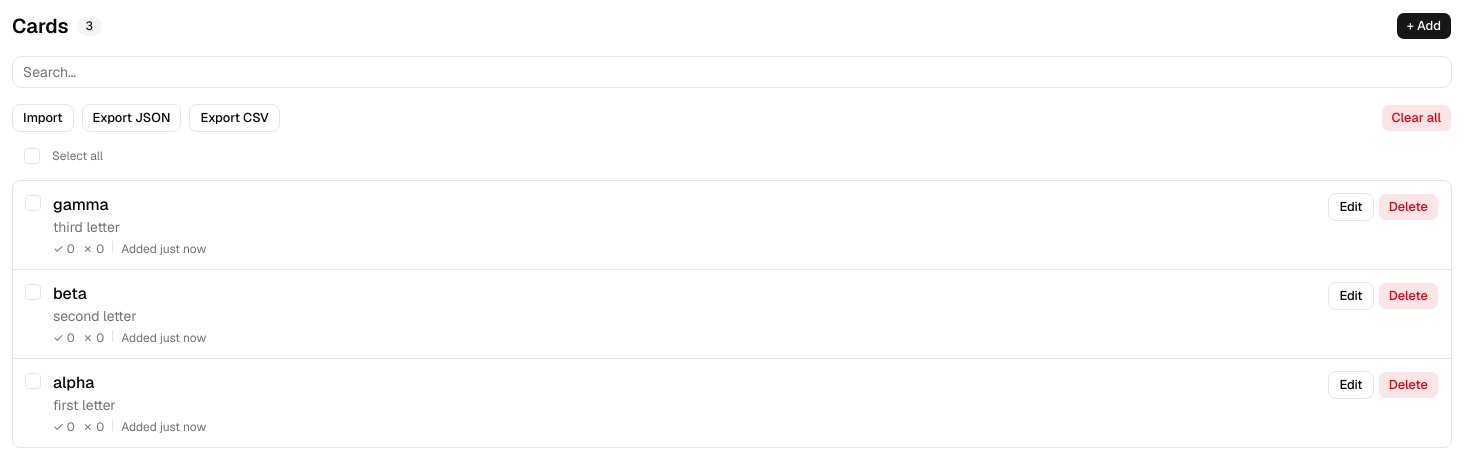
Test: CardsPage › search filters by word and definition (case-insensitive)
The image size is (1464, 465).
In the field with placeholder "Search…": (732, 72) [12,56,1452,88], type "BET"
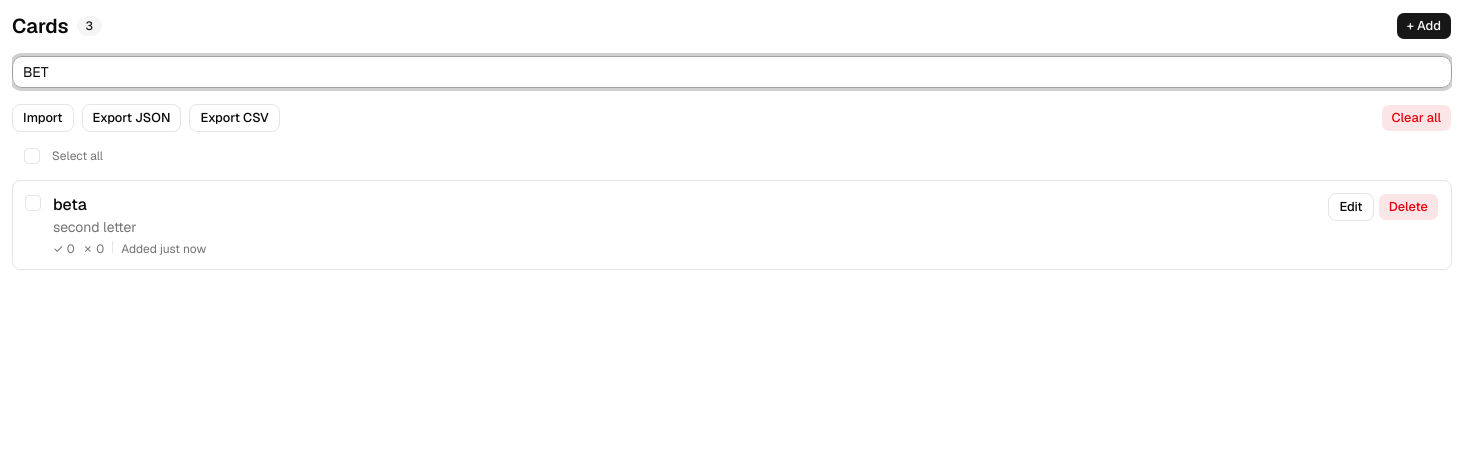
Expected: the text "beta" is shown, [53,194,87,215]
Expected: the text "alpha" is gone
Expected: the text "gamma" is gone
Replace the text in the field with placeholder "Search…" with "third": (732, 72) [12,56,1452,88]
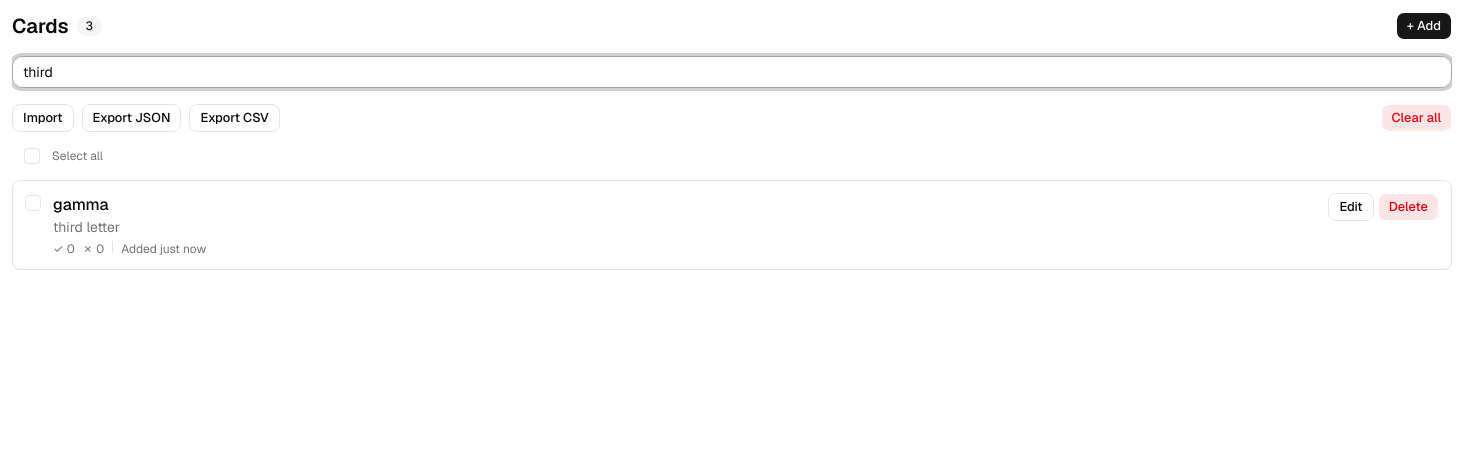
Expected: the text "alpha" is not shown
Expected: the text "gamma" is shown, [53,194,109,215]
Replace the text in the field with placeholder "Search…" with "zzz": (732, 72) [12,56,1452,88]
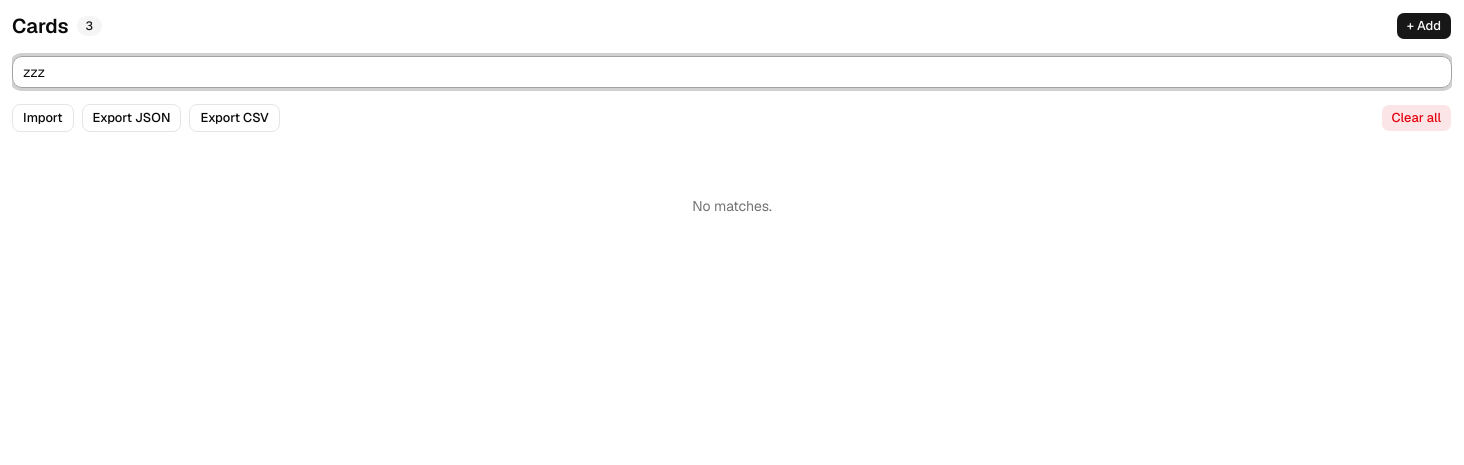
Expected: the text "No matches." is shown, [692,197,772,215]
